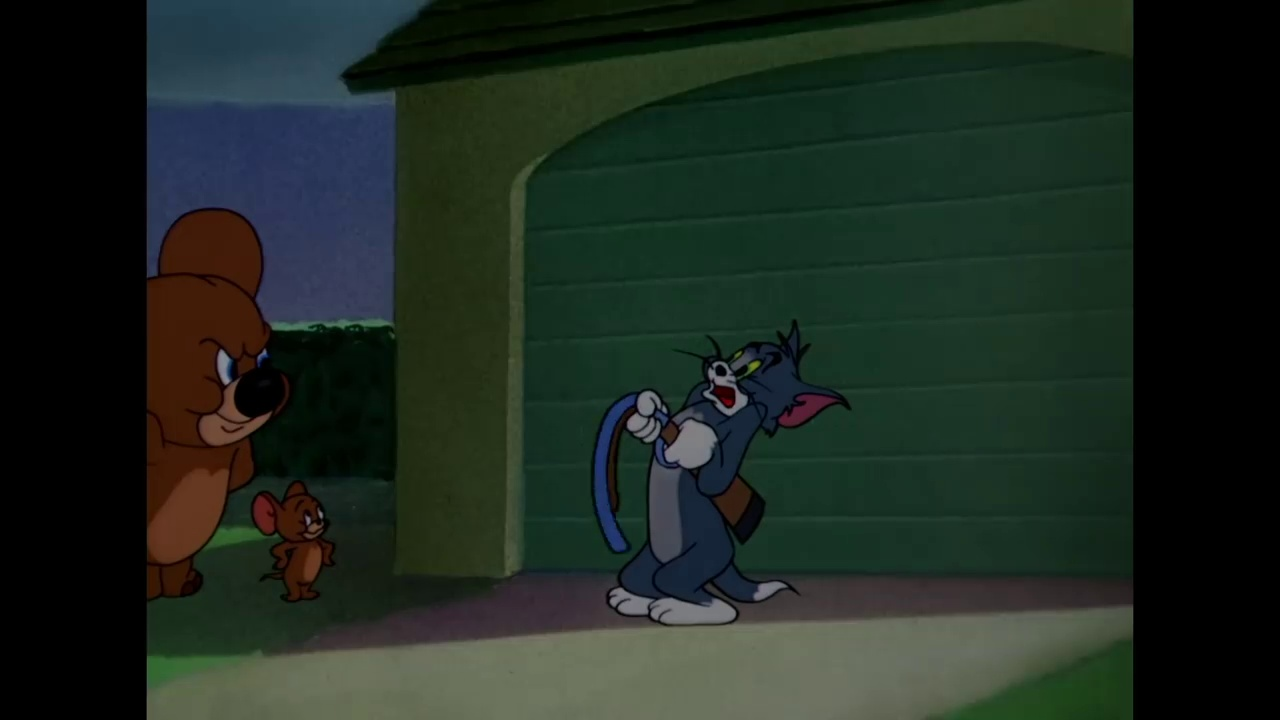tom: (691, 316, 852, 446)
